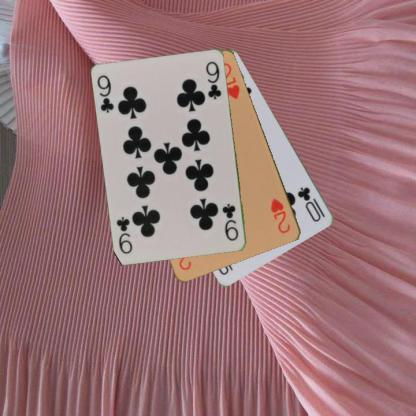10c: (295, 184, 327, 224)
2h: (267, 195, 292, 235)
9c: (94, 72, 116, 115), (219, 201, 240, 243)
